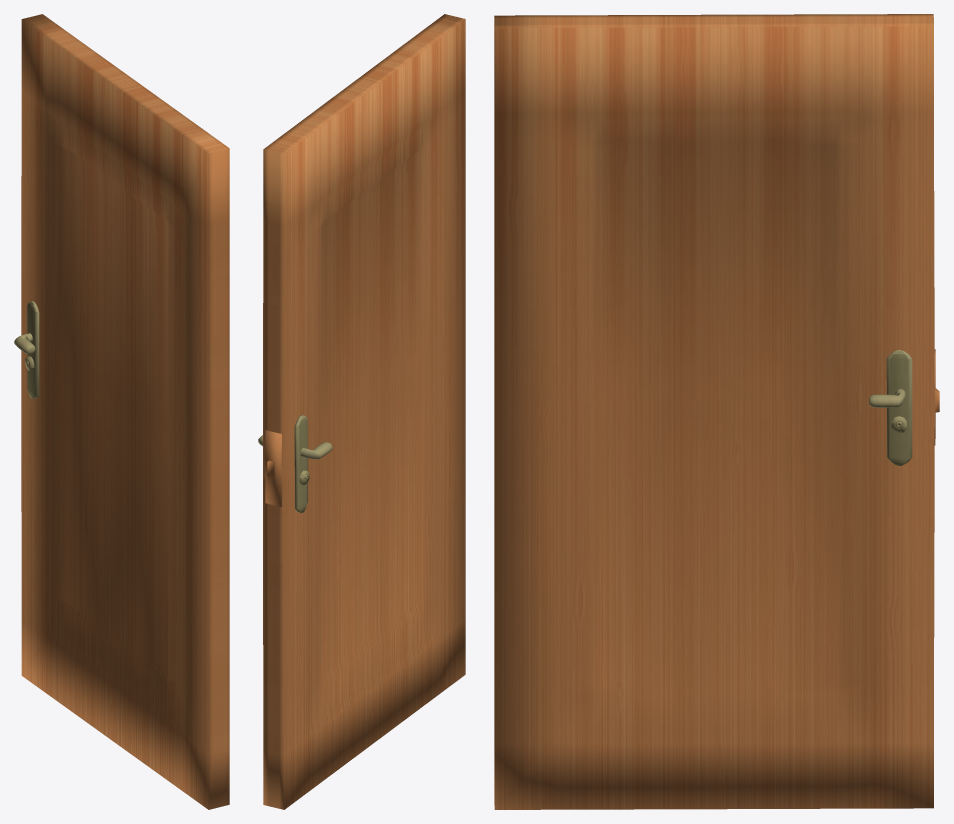
Rendered from Puerta1.obj.
3 views of the same model, side by side, from view 1: azimuth 30°, elevation 25°; view 2: azimuth 150°, elevation 25°; view 3: azimuth 270°, elevation 25° (orthographic). The views are drawn at different scales.
Parts seen in each view (by area): view 1: DoorBoddy_Cube.001, Locker_Cube.003; view 2: DoorBoddy_Cube.001, Locker_Cube.003; view 3: DoorBoddy_Cube.001, Locker.001_Cube.004.
Part boxes in pixels (left/top/right/bottom): DoorBoddy_Cube.001: left=21, top=14, right=229, bottom=809; Locker_Cube.003: left=25, top=301, right=39, bottom=398; DoorBoddy_Cube.001: left=263, top=14, right=465, bottom=809; Locker_Cube.003: left=294, top=415, right=309, bottom=512; DoorBoddy_Cube.001: left=494, top=14, right=939, bottom=809; Locker.001_Cube.004: left=886, top=350, right=912, bottom=465.
Bounding box in the file's own units: 0.2989 × 2.91 × 1.5.
Materials: 2 (2 with a texture image).
